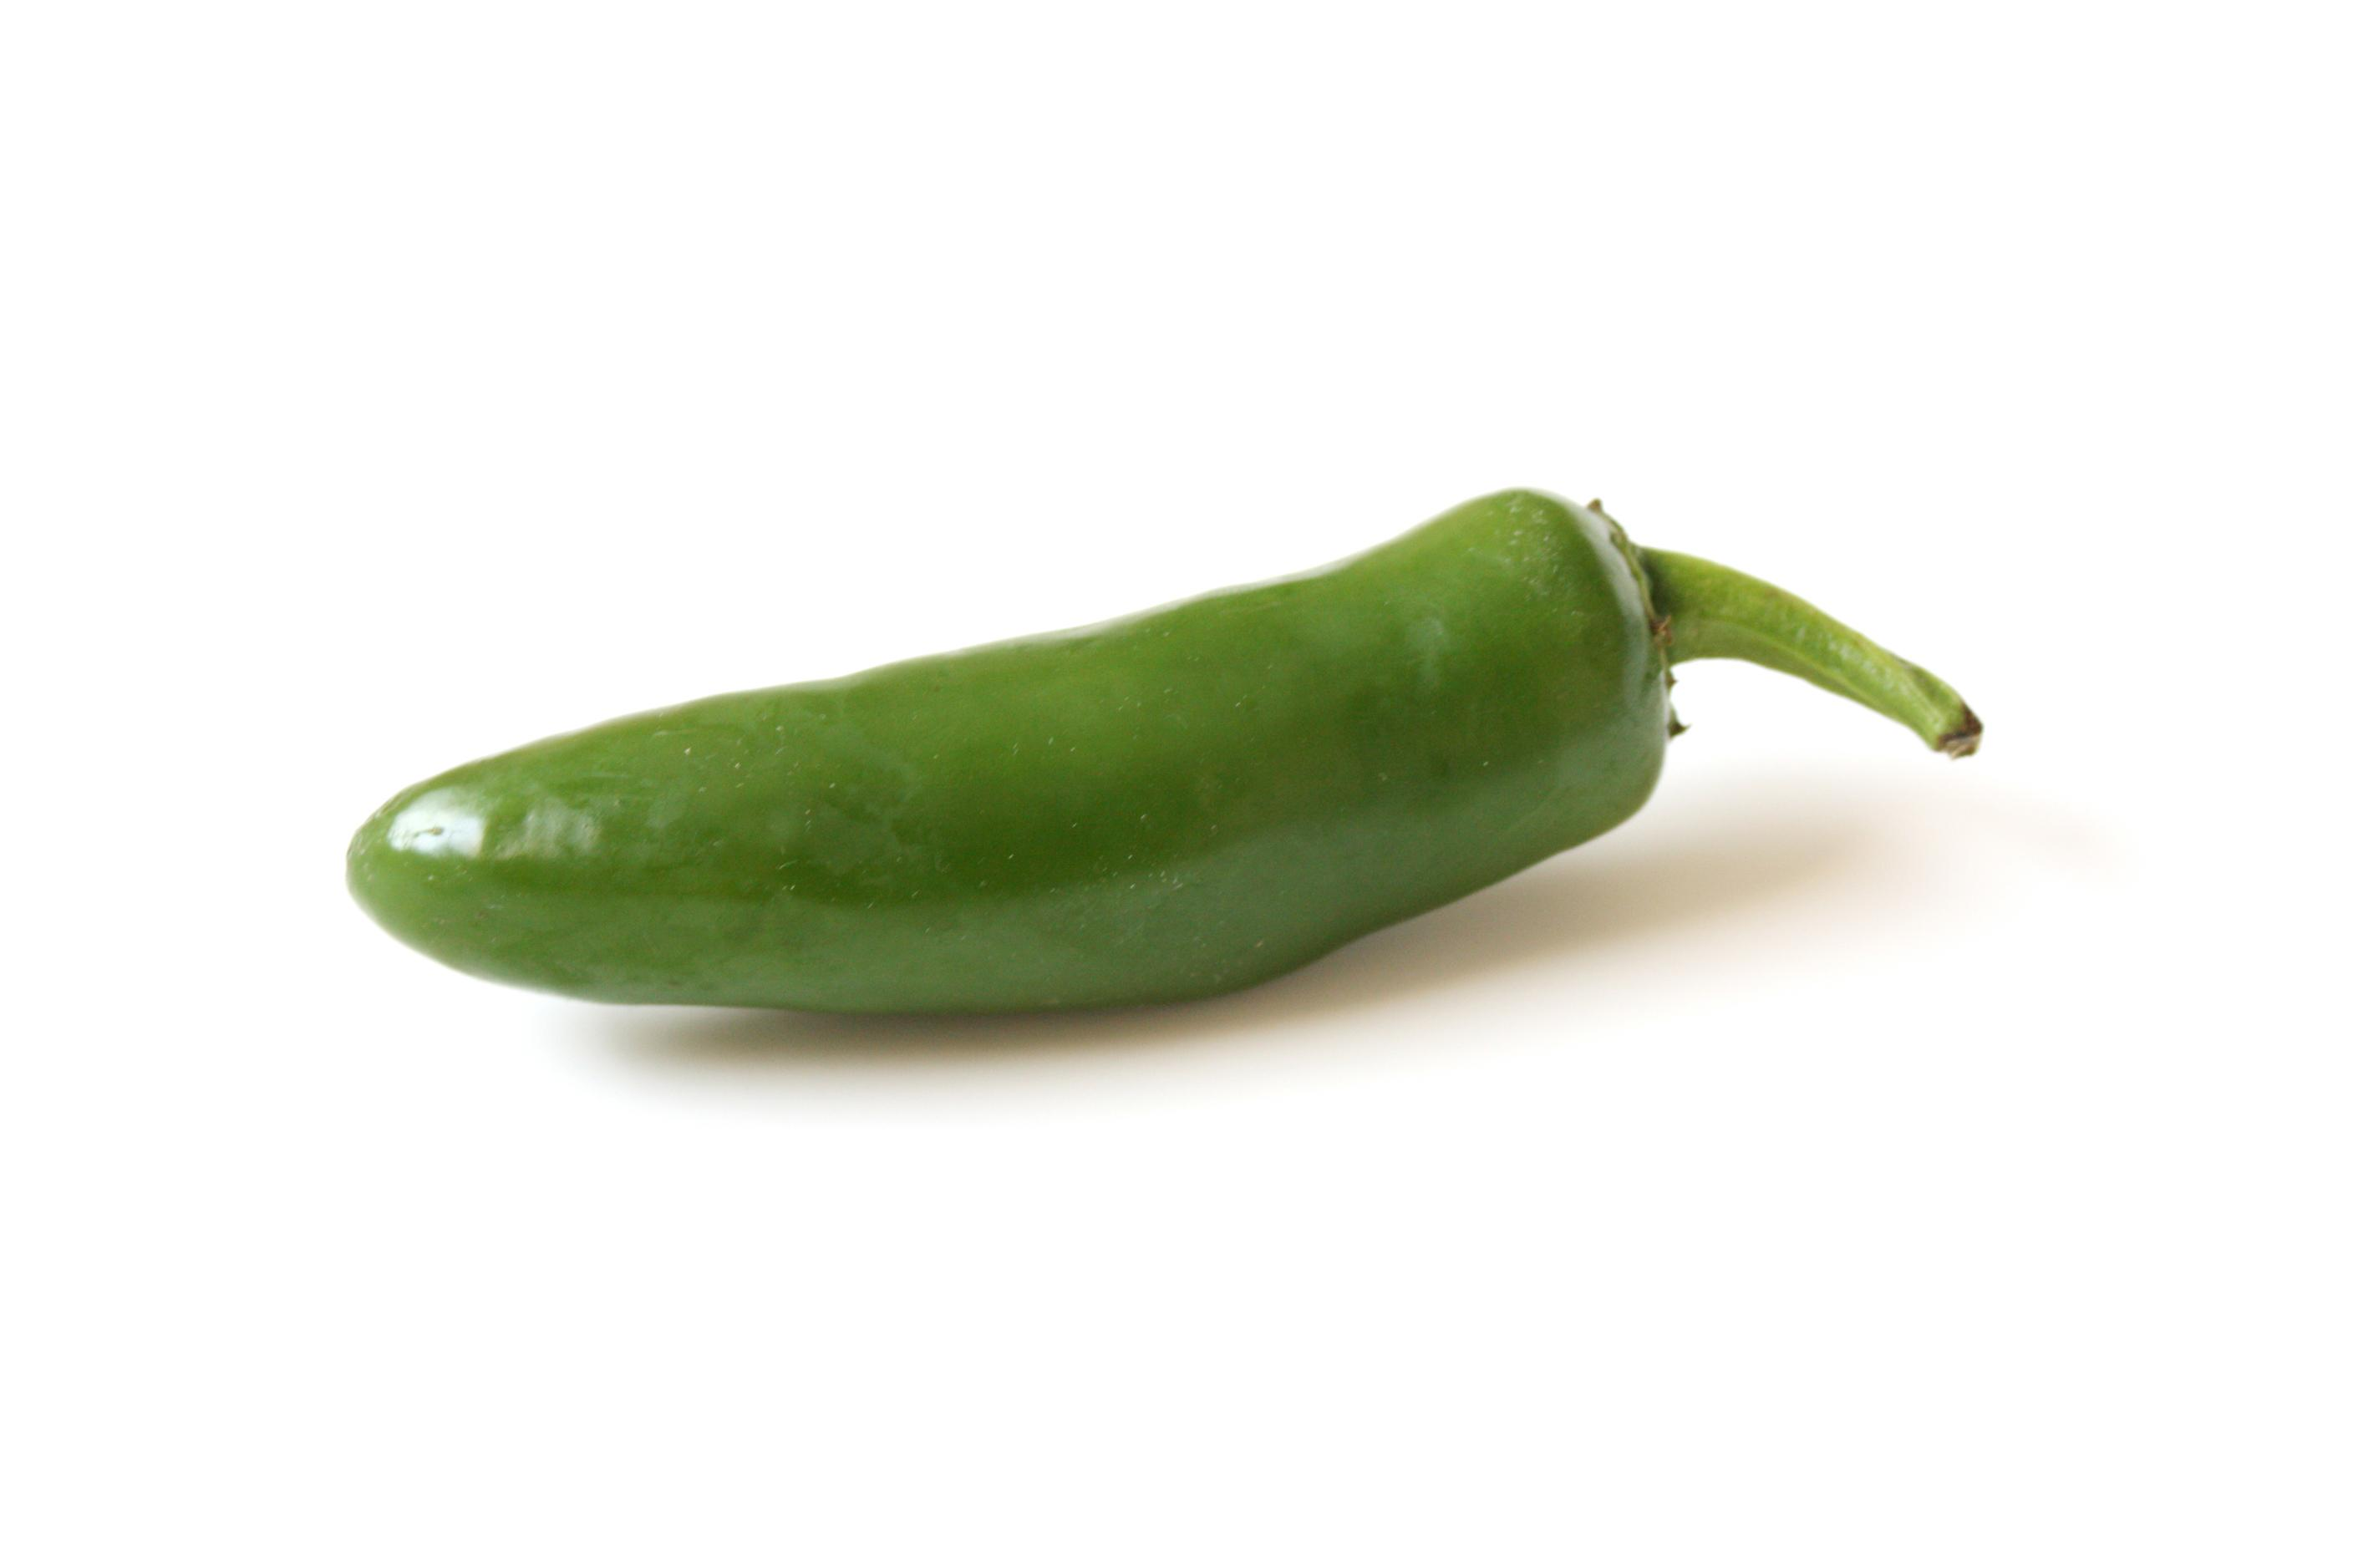jalepeno: (343, 483, 1984, 1022)
